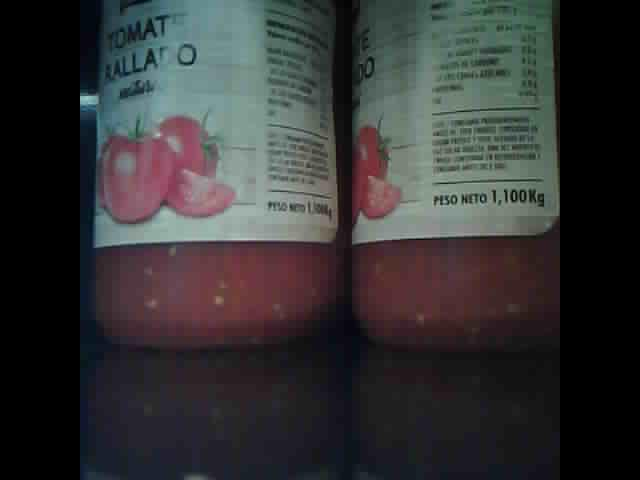tomate: (96, 2, 343, 348), (350, 4, 560, 346)
